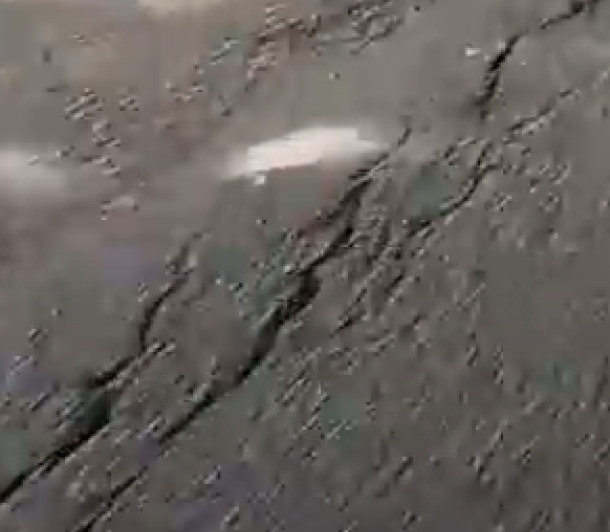Retak Memanjang: (160, 122, 417, 463), (1, 227, 205, 525), (462, 1, 602, 140)
